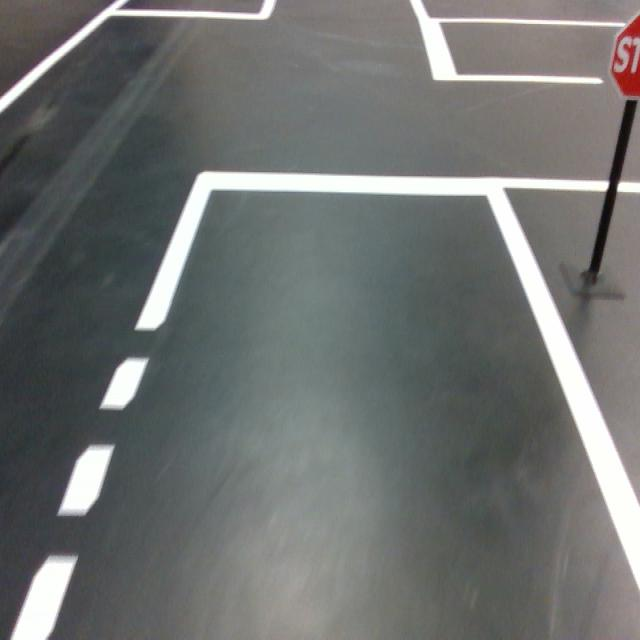stop-sign: (606, 8, 640, 102)
